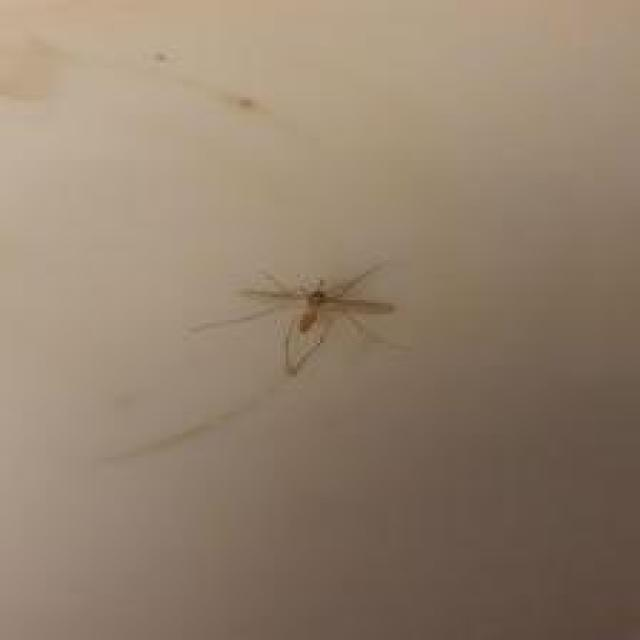Culex: (187, 258, 402, 376)
